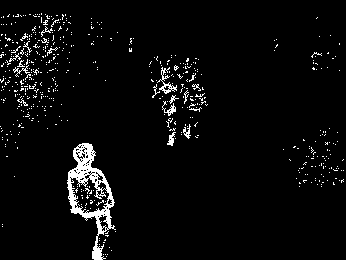person: (64, 142, 112, 260), (154, 74, 181, 147), (189, 73, 209, 153)
